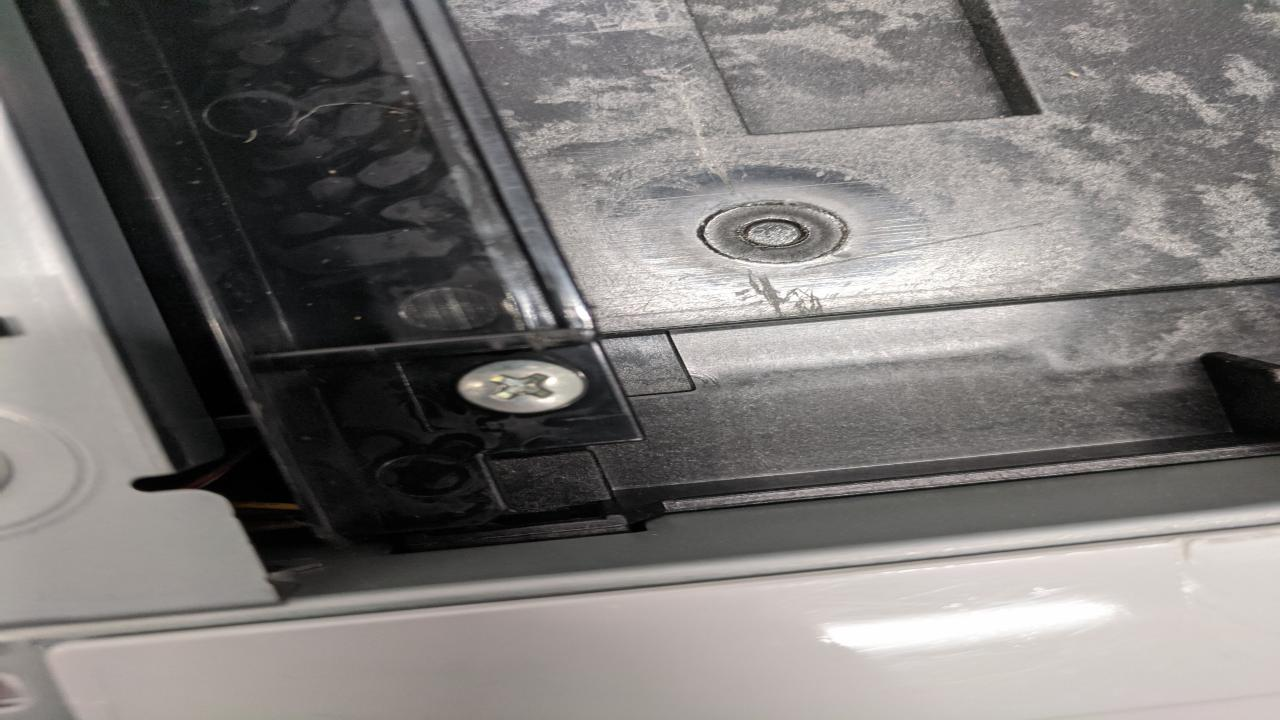CRS: (456, 356, 589, 419)
